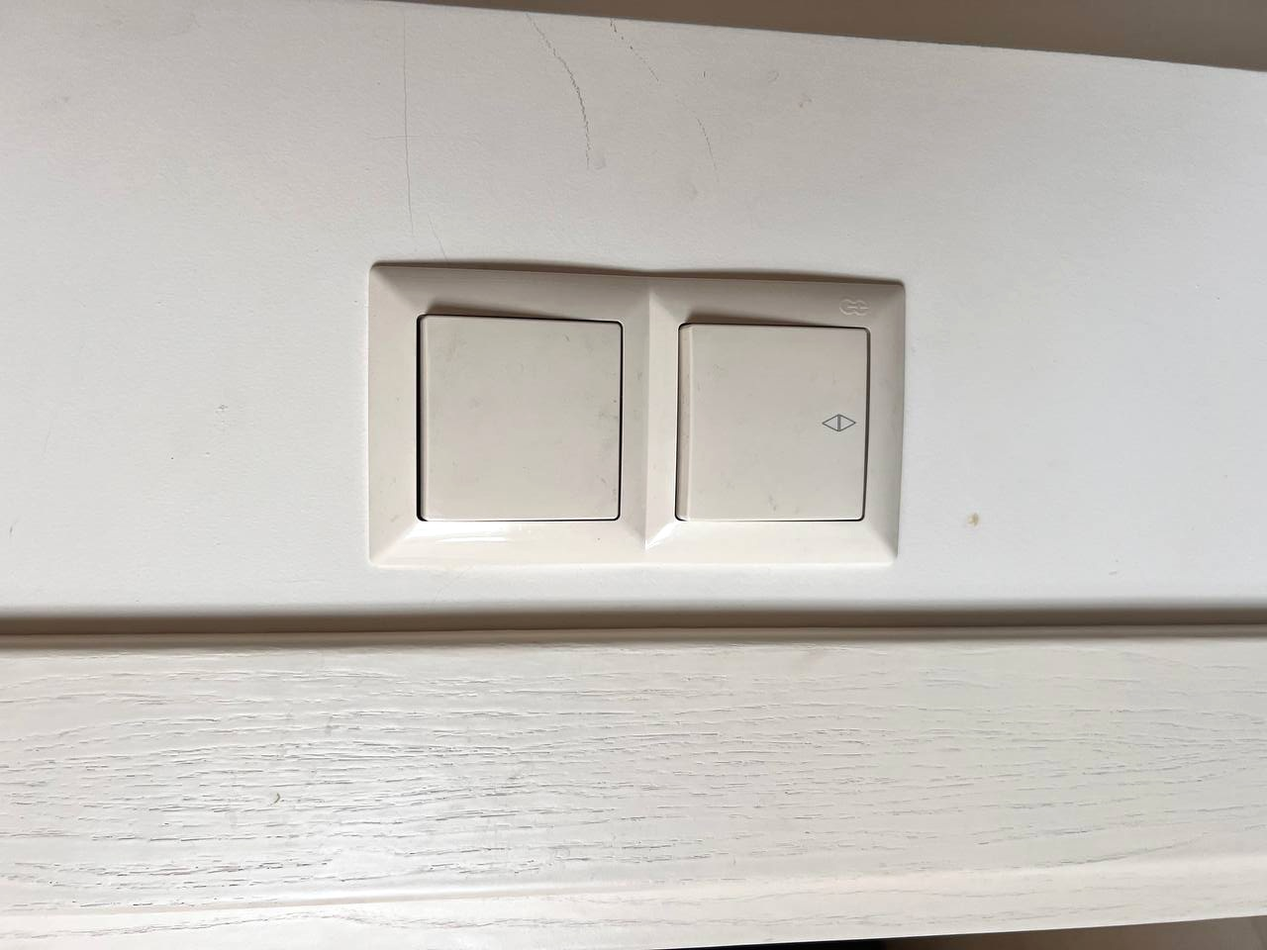Light Switcher: (412, 309, 628, 527), (673, 315, 876, 530)
